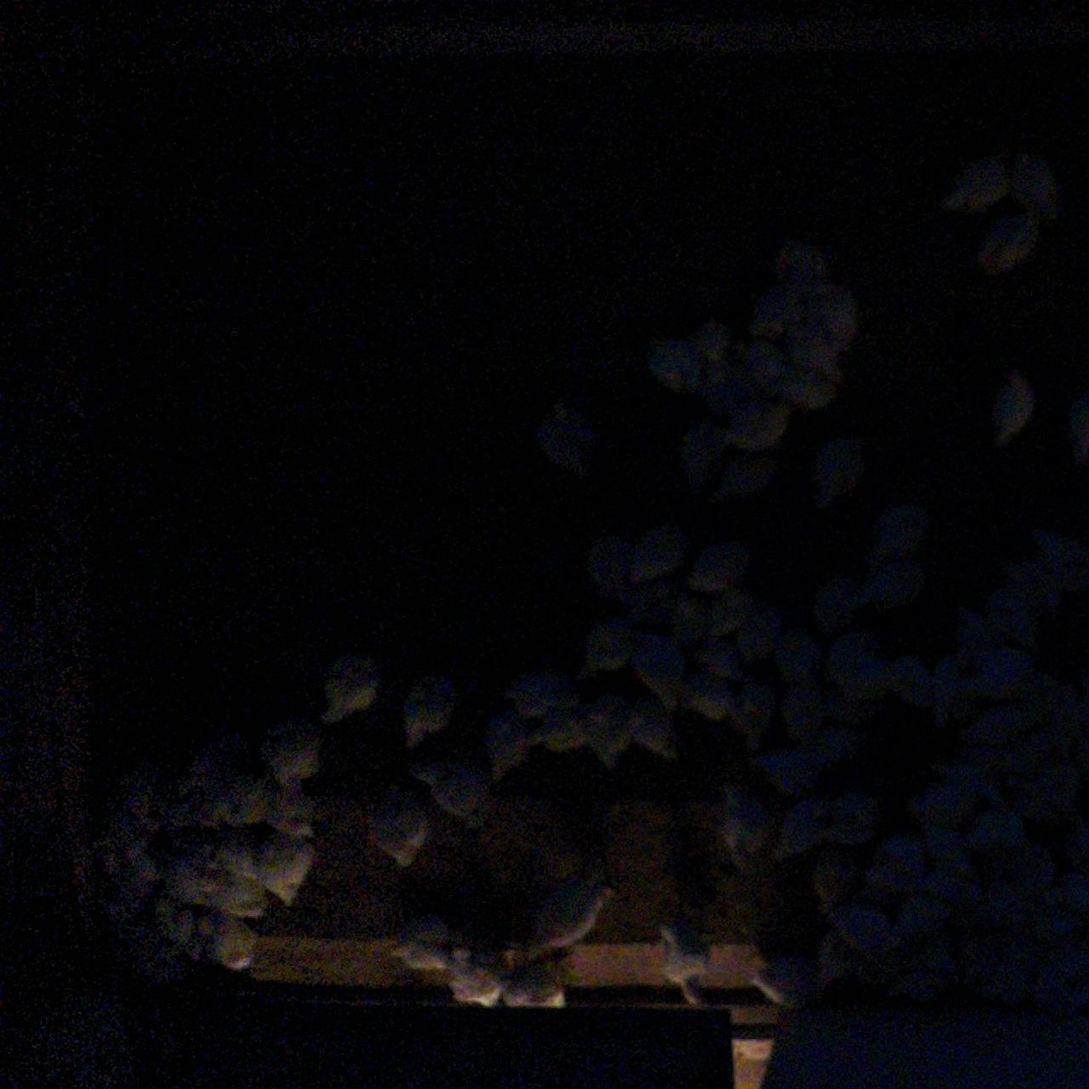chicken: (523, 867, 617, 956), (84, 822, 163, 925), (529, 389, 614, 479), (935, 138, 1018, 230), (583, 534, 664, 614), (393, 664, 465, 752), (369, 776, 435, 869), (970, 209, 1048, 287), (401, 753, 485, 825), (1018, 522, 1089, 606), (649, 915, 707, 1017), (981, 366, 1045, 458), (314, 649, 388, 728), (254, 818, 317, 909), (807, 428, 881, 505), (860, 499, 930, 579), (928, 749, 1008, 816), (387, 911, 469, 976), (581, 684, 640, 774), (713, 783, 770, 876), (992, 549, 1071, 616), (259, 713, 332, 785), (705, 443, 780, 513), (743, 953, 826, 1016), (951, 880, 1041, 938), (813, 788, 887, 858), (746, 274, 822, 342), (193, 907, 263, 980), (628, 626, 686, 714), (502, 665, 583, 728), (941, 599, 1006, 677), (923, 647, 981, 734), (624, 515, 694, 587), (824, 624, 886, 705), (185, 722, 254, 794), (954, 647, 1038, 706), (716, 389, 791, 455), (729, 591, 786, 675), (686, 359, 763, 421), (520, 699, 602, 757), (811, 562, 875, 636), (675, 537, 758, 594), (983, 577, 1040, 659), (636, 329, 701, 400), (483, 698, 536, 785), (769, 795, 833, 867), (912, 804, 972, 880), (855, 557, 928, 619), (787, 316, 854, 383), (860, 834, 928, 900), (1010, 145, 1064, 228), (1033, 675, 1089, 755), (741, 743, 827, 795), (730, 667, 779, 757), (112, 756, 172, 829), (204, 858, 270, 924), (676, 412, 724, 500), (773, 360, 840, 423), (965, 796, 1032, 859), (951, 736, 1037, 785), (822, 896, 900, 950), (950, 919, 1005, 995), (149, 886, 204, 962), (767, 233, 832, 297), (627, 690, 681, 767), (874, 643, 930, 717), (808, 845, 859, 926), (154, 844, 217, 909), (1023, 898, 1089, 960), (892, 890, 951, 958), (186, 826, 264, 877), (579, 612, 638, 679), (805, 711, 873, 769), (813, 920, 864, 997), (916, 857, 991, 909), (990, 933, 1042, 1008), (950, 701, 1022, 755), (813, 278, 861, 358), (1028, 749, 1088, 813), (1030, 955, 1089, 1020), (875, 972, 958, 1018), (904, 779, 974, 833), (261, 771, 314, 842), (729, 320, 785, 387), (1005, 667, 1064, 730), (768, 624, 824, 690), (496, 960, 567, 1012), (991, 837, 1061, 887), (674, 666, 734, 724), (208, 777, 265, 838), (847, 941, 909, 995), (781, 675, 828, 746), (665, 581, 713, 649), (915, 929, 972, 986), (448, 951, 503, 1009), (1035, 858, 1089, 915), (698, 580, 755, 634), (693, 319, 741, 383), (1010, 759, 1053, 830), (690, 620, 737, 679), (1054, 810, 1089, 888), (817, 687, 886, 722), (1061, 387, 1089, 473)
